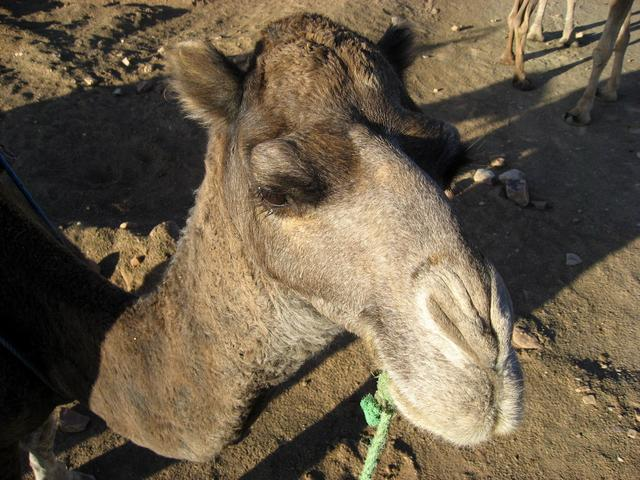camel: (106, 13, 538, 480)
